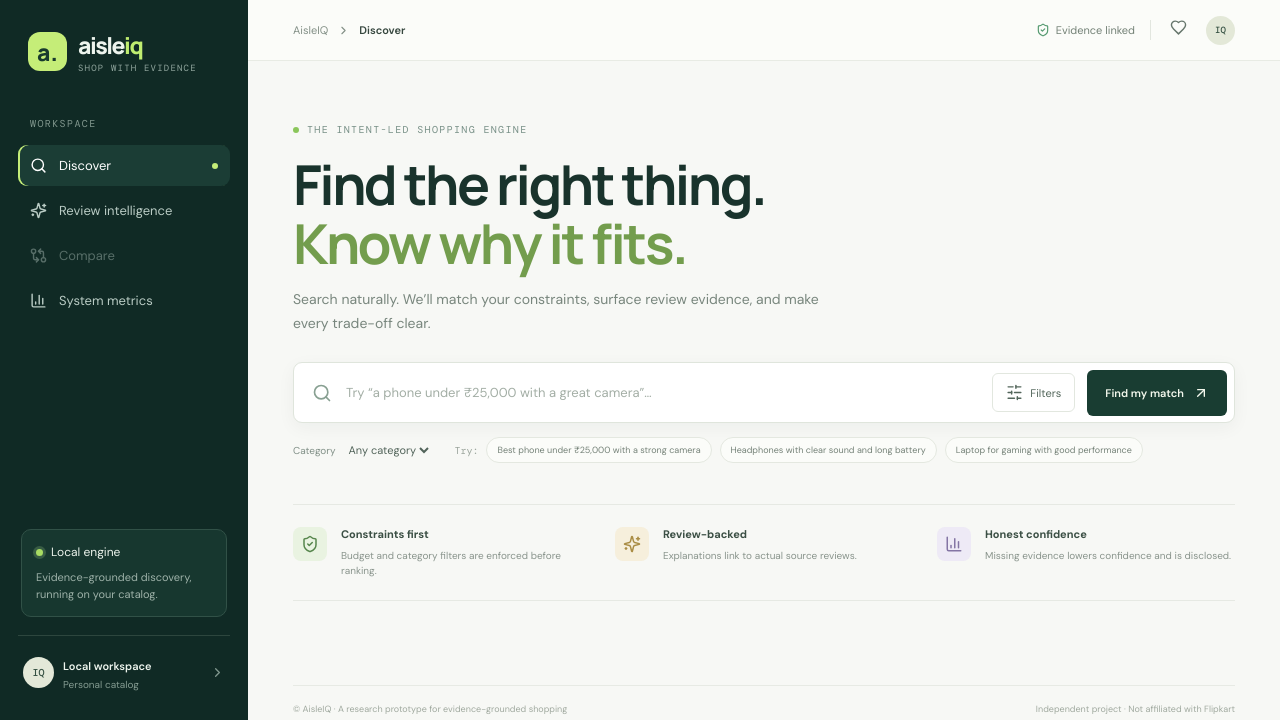
Test: AisleIQ discovery flow › shows a useful message when the API is unreachable
Type "phone" into the field named "describe what you are looking for" at (662, 393), box top-left (344, 384), bottom-right (980, 402)
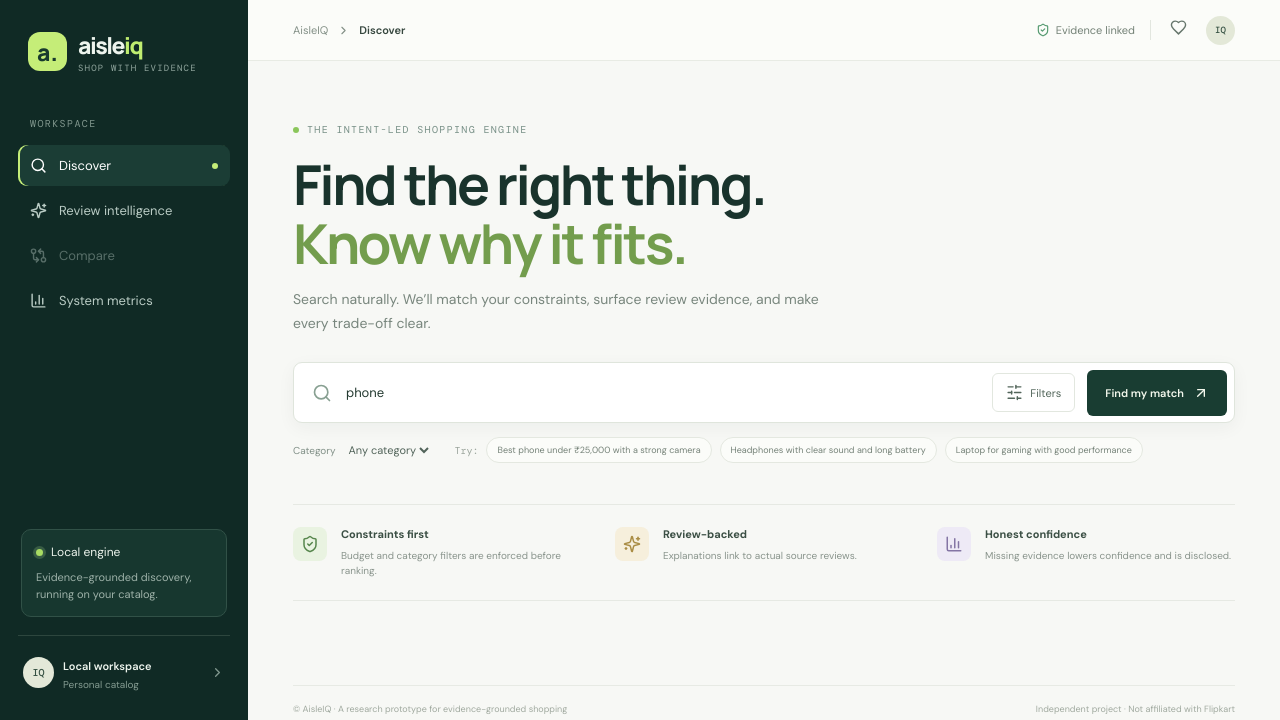
Click the button "Find my match" at (1157, 393), box top-left (1087, 370), bottom-right (1227, 416)
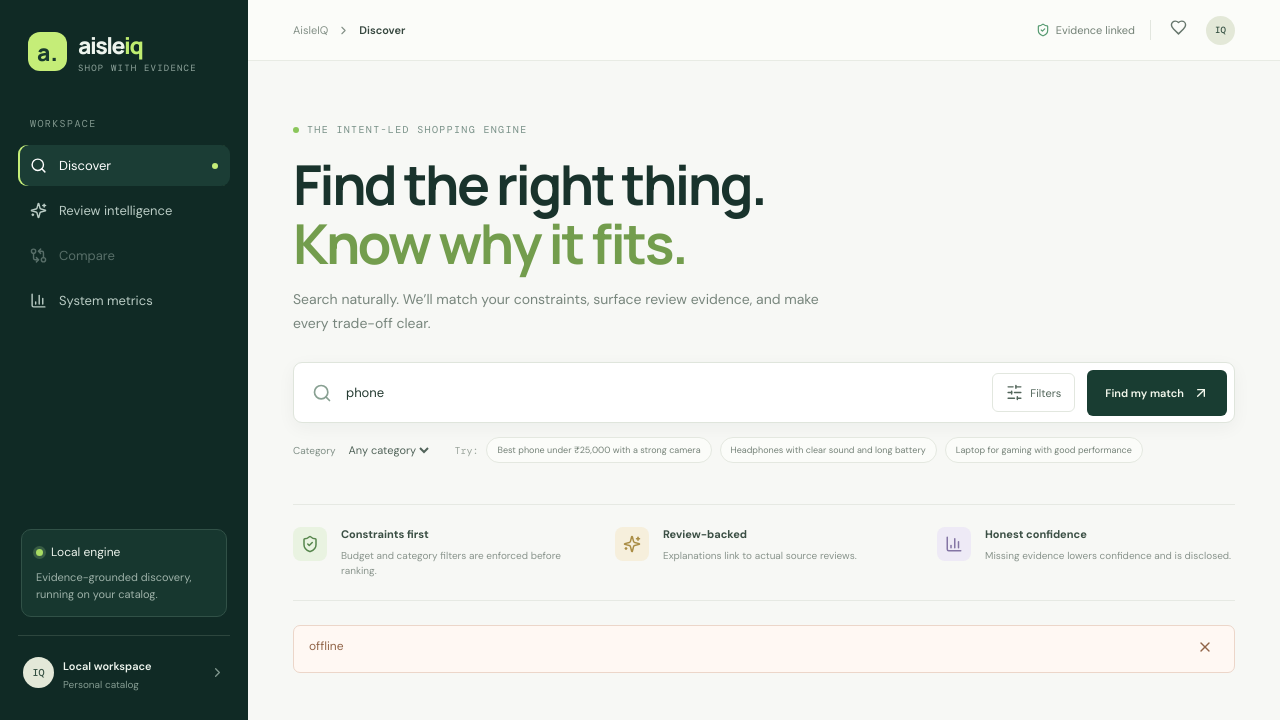
Result: the text "offline" is shown at top-left (309, 638), bottom-right (344, 660)
